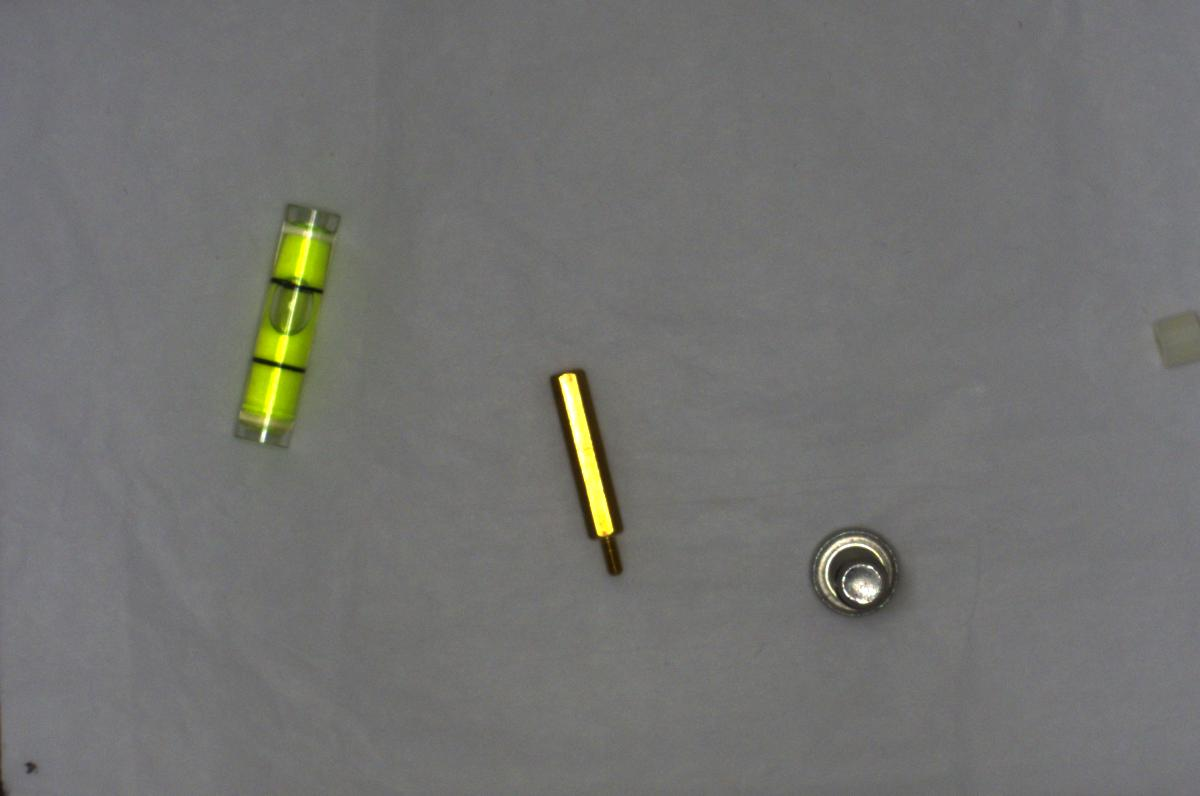Hexagon pillar: (544, 360, 637, 578)
Hexagon screw: (801, 525, 904, 619)
Horizontal bubble: (224, 198, 340, 454)
Plastic cushion pillar: (1147, 302, 1199, 374)
